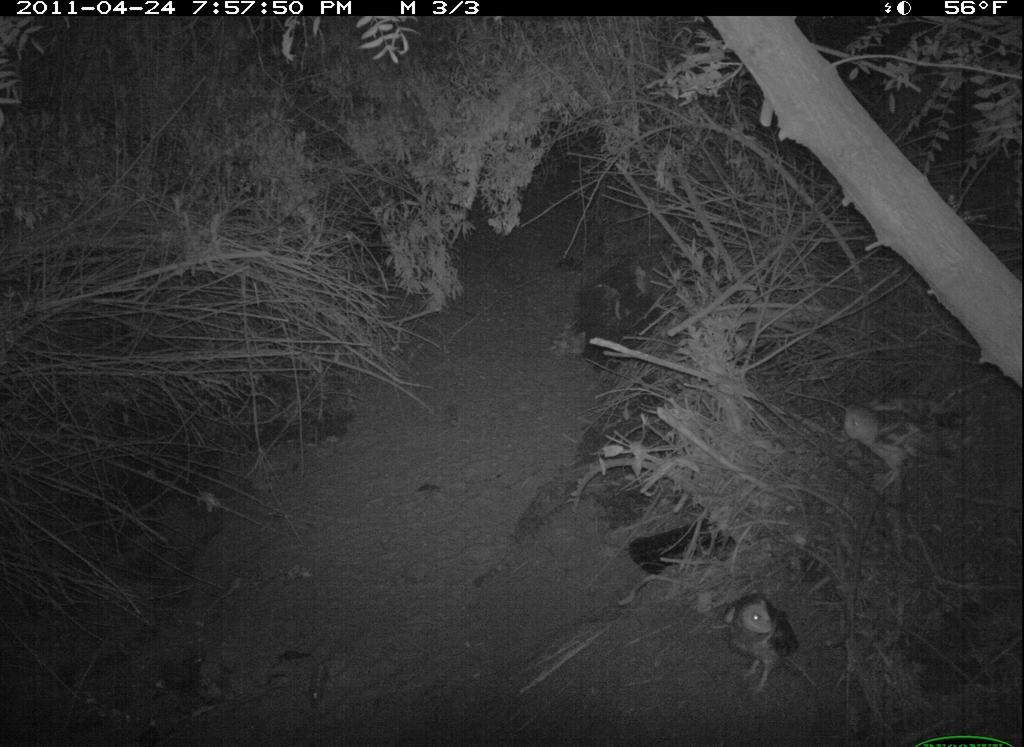bird: (841, 393, 973, 497), (710, 584, 808, 707)
